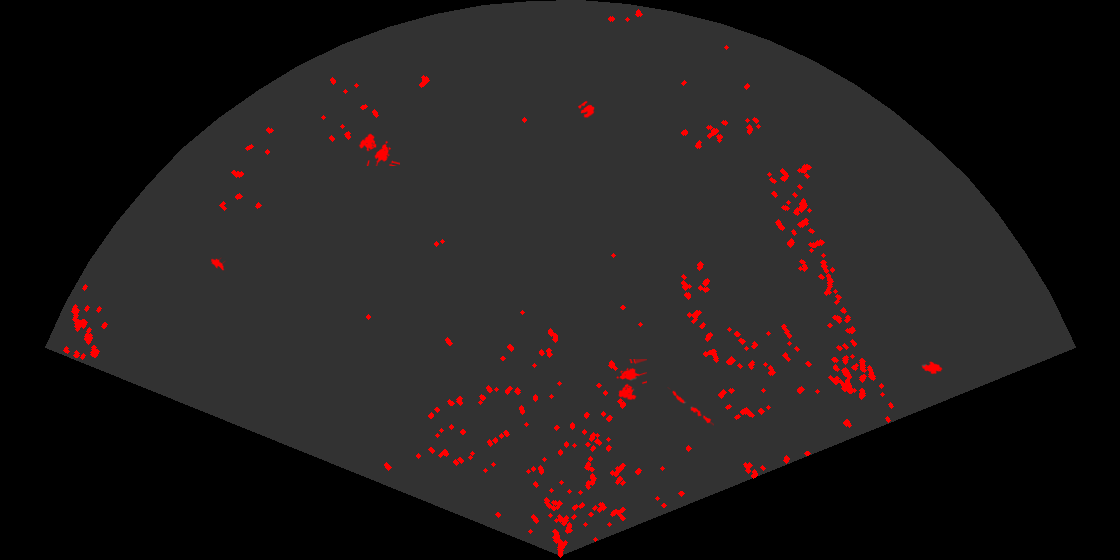AUV: (920, 360, 944, 376), (209, 256, 227, 272)
ball: (576, 99, 596, 119)
cage: (357, 132, 400, 166), (615, 359, 647, 402)
chain: (666, 387, 714, 427)
